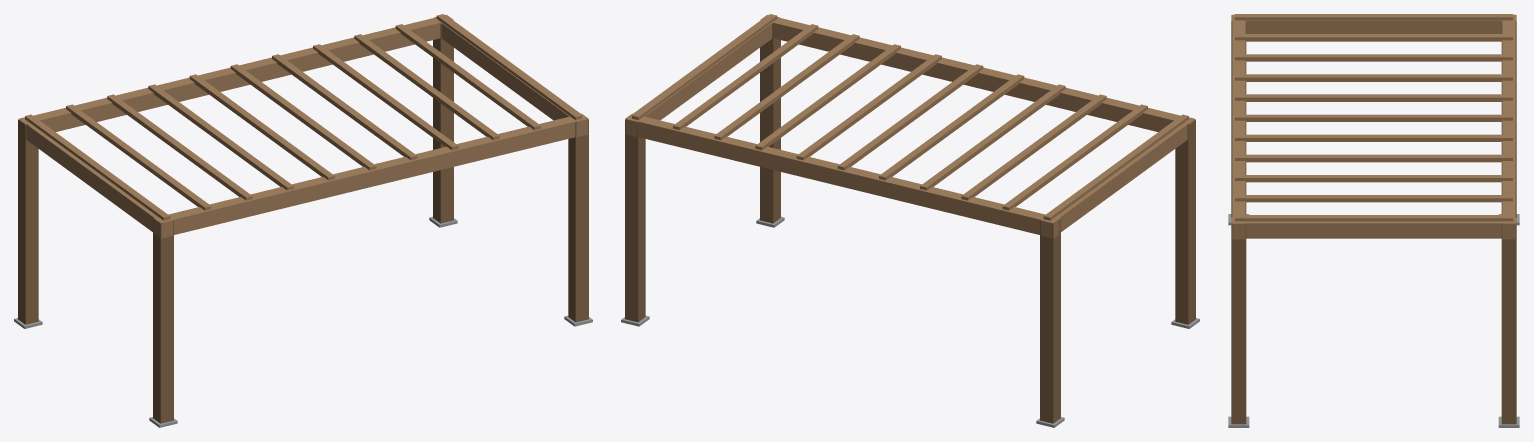
Rendered from roof-pergola.glb.
The picture shows the model from 3 angles, left to right: view 1: azimuth 30°, elevation 25°; view 2: azimuth 150°, elevation 25°; view 3: azimuth 270°, elevation 25°; orthographic projection.
Parts seen in each view (by area): view 1: roof-pergola_PergWood, roof-pergola_PergWoodDark, roof-pergola_PergMetal; view 2: roof-pergola_PergWood, roof-pergola_PergWoodDark, roof-pergola_PergMetal; view 3: roof-pergola_PergWood, roof-pergola_PergWoodDark, roof-pergola_PergMetal.
Part boxes in pixels (x1,y1,x2,y2): roof-pergola_PergWood: [18, 14, 588, 238]; roof-pergola_PergWoodDark: [18, 23, 588, 423]; roof-pergola_PergMetal: [14, 216, 592, 427]; roof-pergola_PergWood: [625, 14, 1195, 238]; roof-pergola_PergWoodDark: [625, 23, 1195, 423]; roof-pergola_PergMetal: [621, 216, 1199, 427]; roof-pergola_PergWood: [1231, 14, 1516, 239]; roof-pergola_PergWoodDark: [1231, 21, 1516, 424]; roof-pergola_PergMetal: [1228, 214, 1519, 427].
Bounding box in the file's own units: 5.26 × 2.39 × 3.06.
